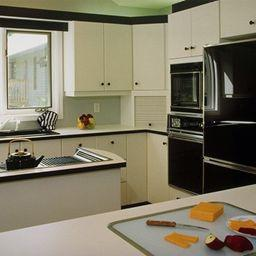Electrodomestico: (205, 46, 255, 181), (4, 138, 115, 166), (169, 112, 204, 192), (170, 64, 205, 110)
